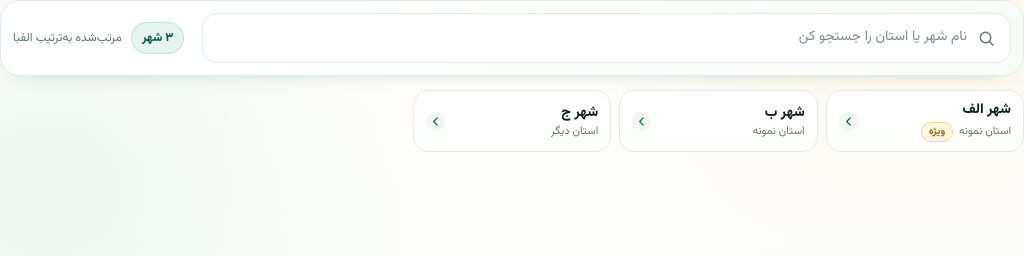
Test case: CityGrid › shows a helpful empty state when nothing matches
Type "ایستگاه" into the search field named "جستجوی شهر" at (592, 38), box [217, 17, 967, 59]
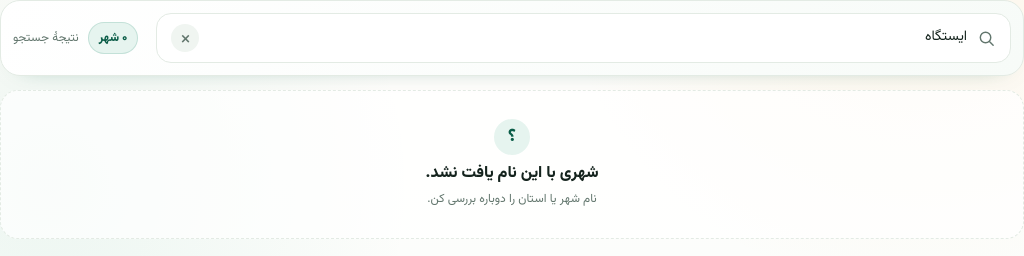
Now the text "شهری با این نام یافت نشد." is shown, box [426, 160, 598, 187]
Now the text with test id "city-results-count" reads "۰ شهر", box [88, 22, 138, 54]
